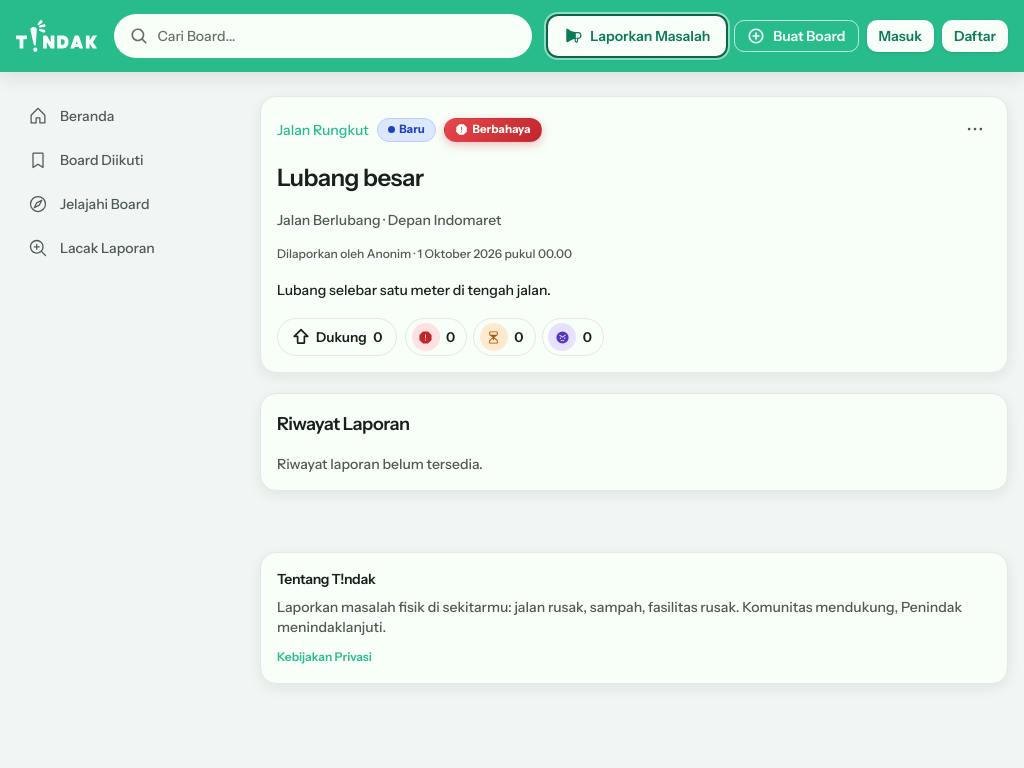
Test: Tandai Pelanggaran › tamu diminta masuk
Click the button named "Opsi laporan" at (975, 129), box [959,113,991,145]
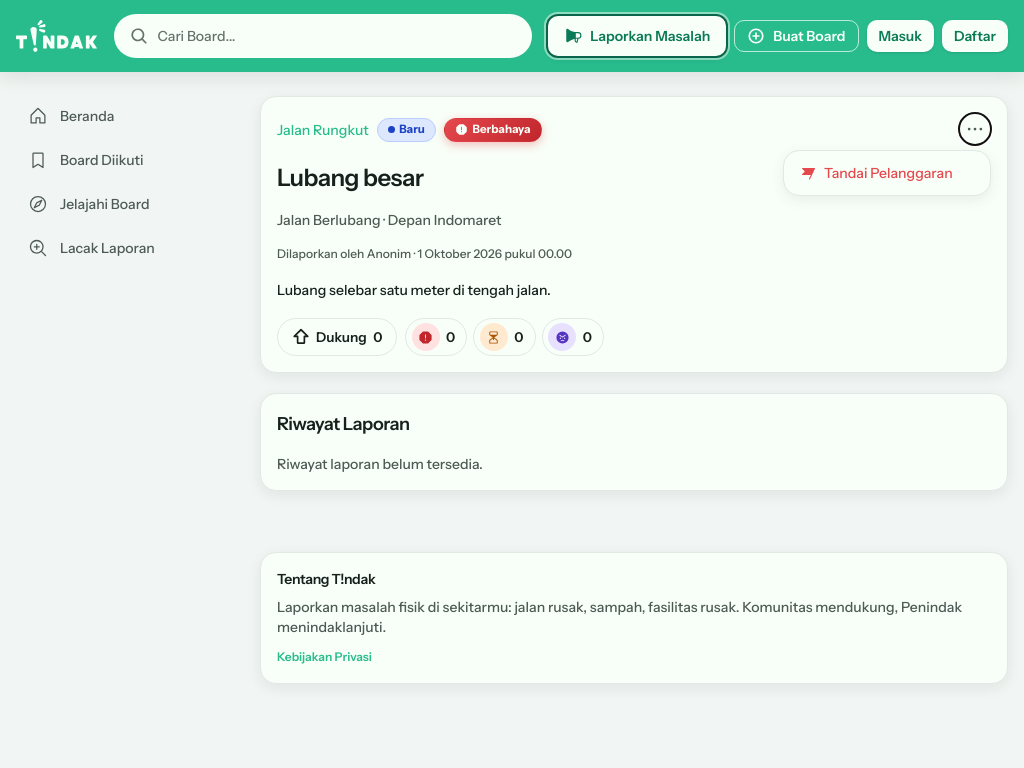
Click the menu item "Tandai Pelanggaran" at (887, 173), box [788,155,986,191]
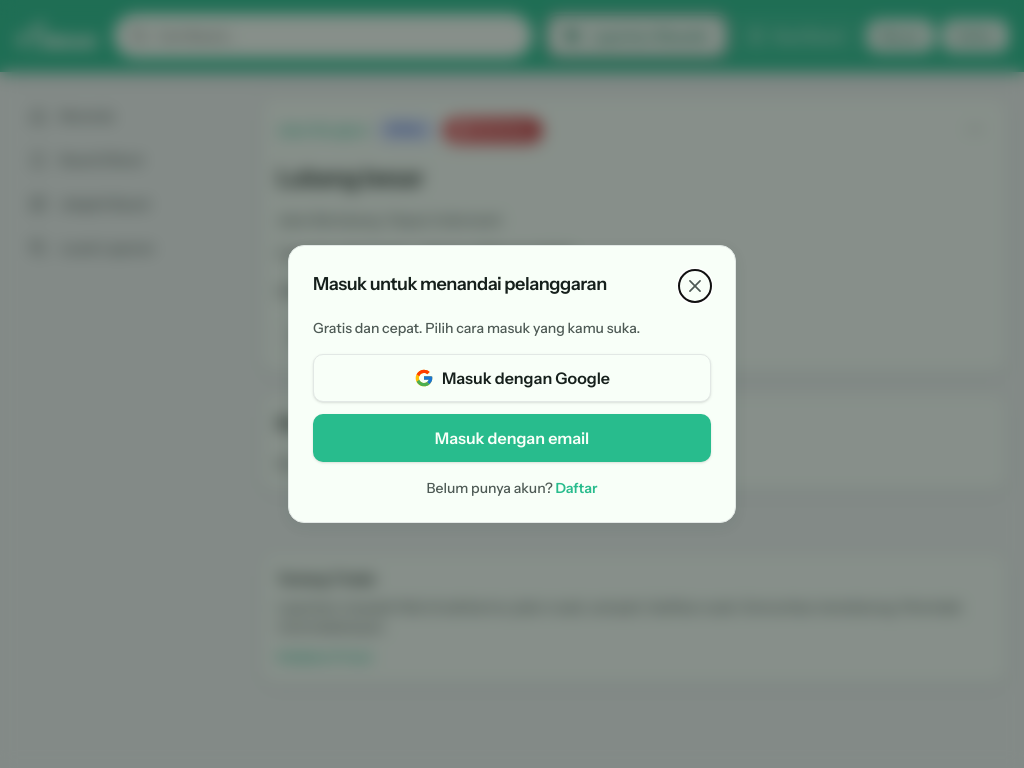
Check: the heading "Masuk untuk menandai pelanggaran" is shown, box [313,270,607,298]
